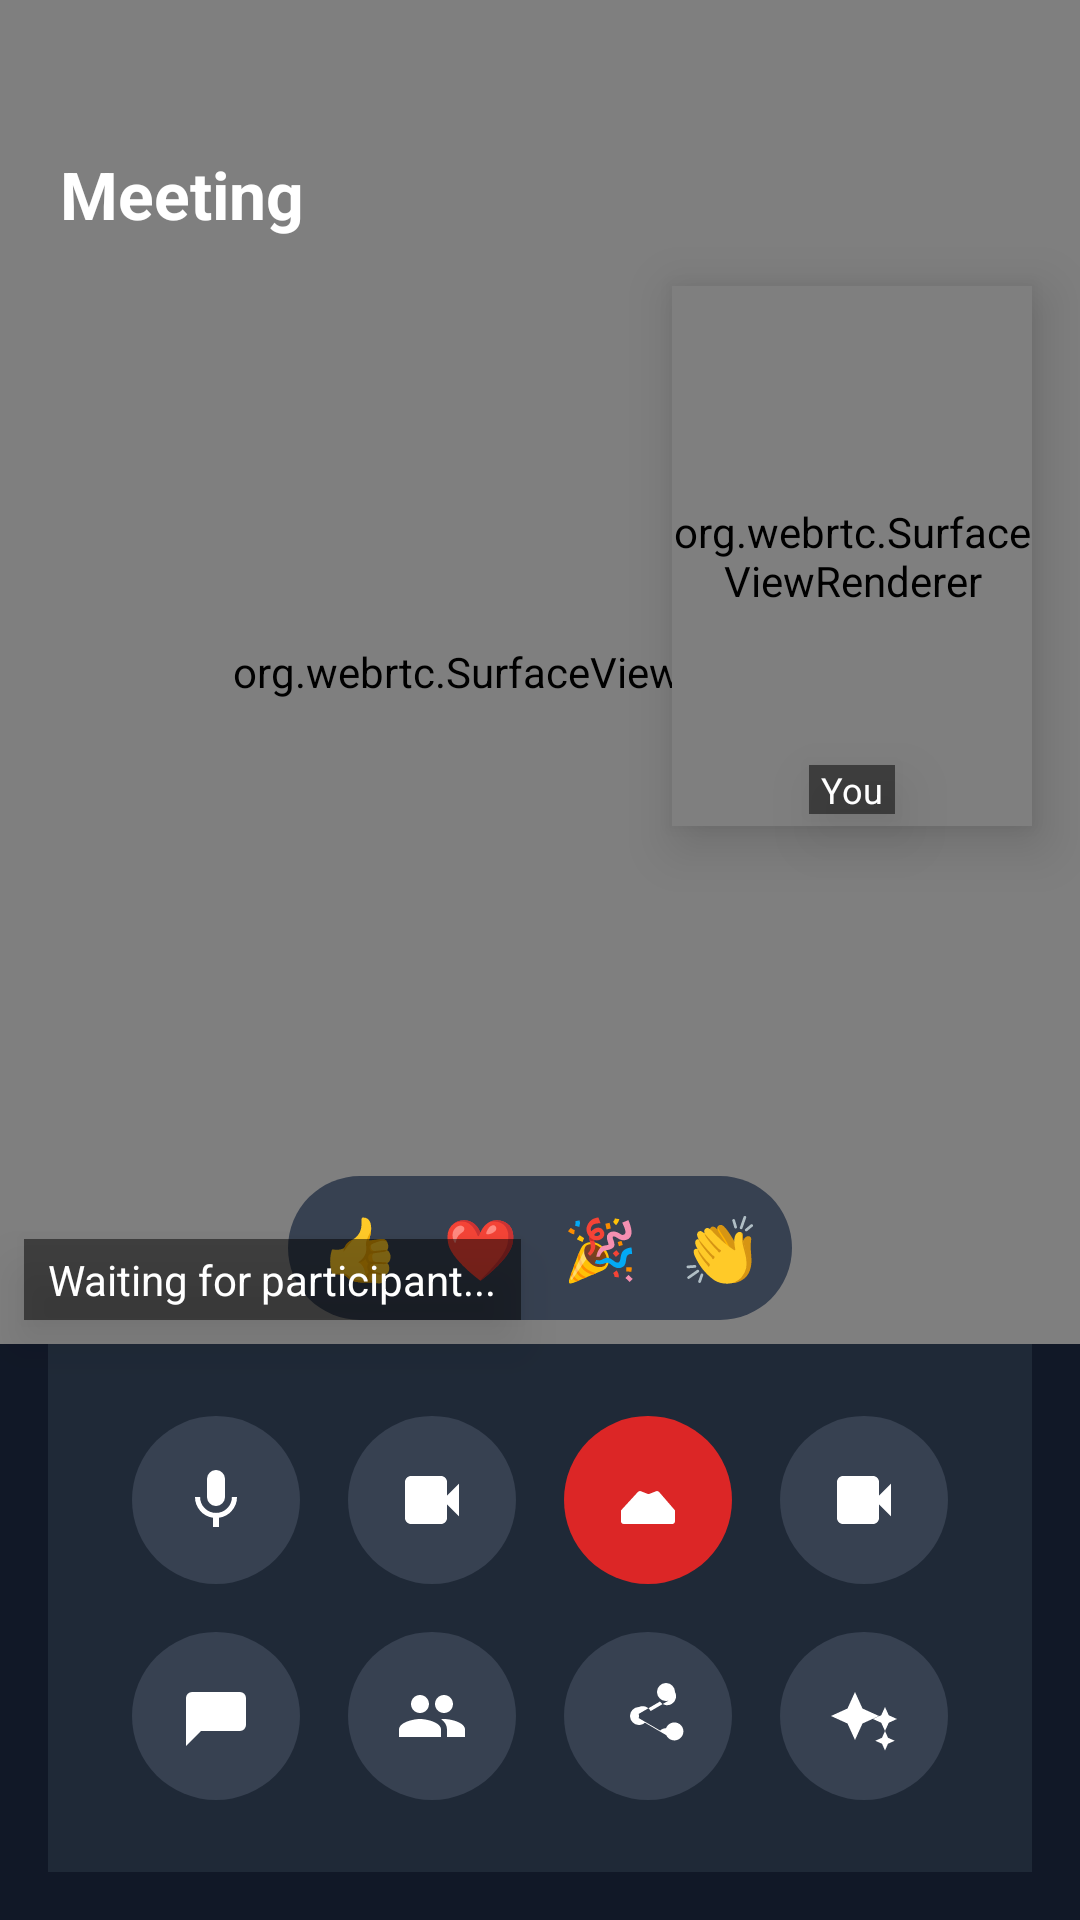

Screen size 1080px x 1920px. Icon name, then its box in pixels as (x1, y1, x2, y2):
AI Chatbot: (781, 1632, 947, 1800)
Camera: (349, 1416, 515, 1584)
Chat: (133, 1632, 299, 1800)
End Call: (564, 1416, 732, 1584)
Mic: (133, 1416, 299, 1584)
Participants: (349, 1632, 515, 1800)
Share: (565, 1632, 731, 1800)
